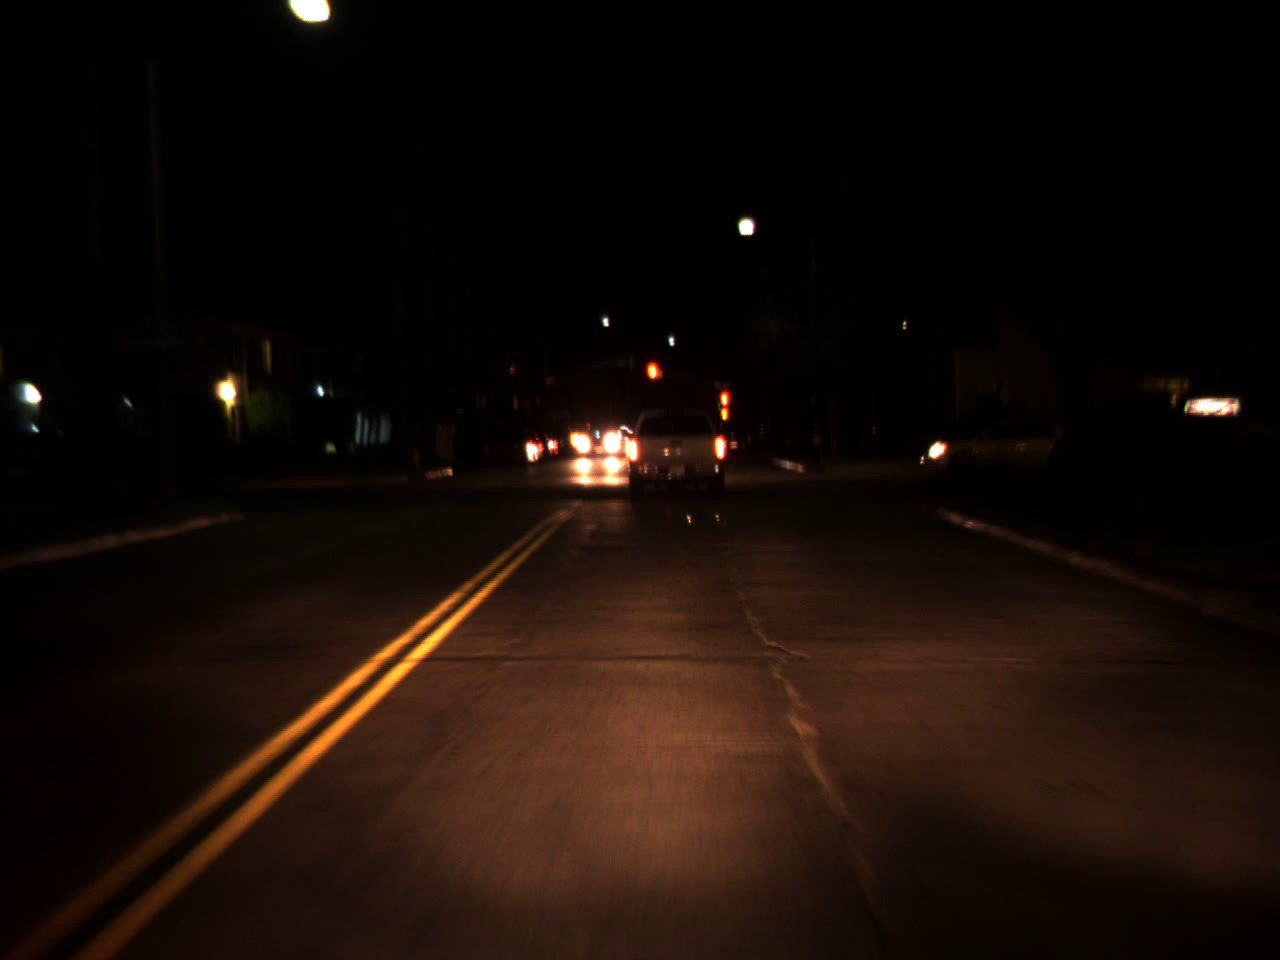stop: (643, 359, 662, 402), (720, 391, 727, 419)
